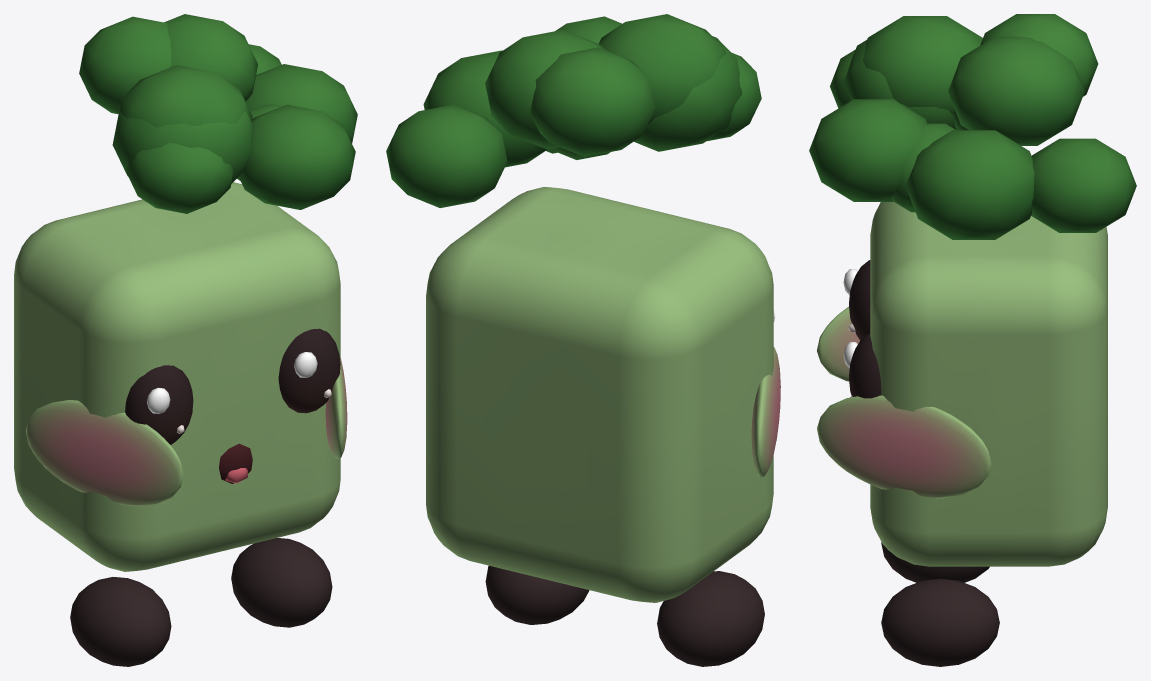
The model's file is folk_sprout.glb.
3 renders of one model, left to right at view 1: azimuth 30°, elevation 25°; view 2: azimuth 150°, elevation 25°; view 3: azimuth 270°, elevation 25°, orthographic. The views are drawn at different scales.
Parts seen in each view (by area): view 1: sprout_body, sprout_foot_l, sprout_foot_r, sprout_eye_r, sprout_eye_l; view 2: sprout_body, sprout_foot_l, sprout_foot_r; view 3: sprout_body, sprout_foot_r, sprout_eye_r, sprout_eye_l, sprout_foot_l.
Part boxes in pixels (bbox=[...]): sprout_body: bbox=[14, 14, 357, 571]; sprout_foot_l: bbox=[70, 577, 171, 666]; sprout_foot_r: bbox=[231, 538, 332, 627]; sprout_eye_r: bbox=[278, 328, 340, 413]; sprout_eye_l: bbox=[125, 365, 193, 444]; sprout_body: bbox=[386, 14, 780, 602]; sprout_foot_l: bbox=[657, 571, 764, 666]; sprout_foot_r: bbox=[485, 565, 589, 624]; sprout_body: bbox=[809, 14, 1136, 566]; sprout_foot_r: bbox=[881, 578, 999, 666]; sprout_eye_r: bbox=[843, 333, 881, 398]; sprout_eye_l: bbox=[843, 260, 870, 340]; sprout_foot_l: bbox=[881, 542, 989, 582].
Bounding box in the file's own units: 0.2827 × 0.5046 × 0.2515.
